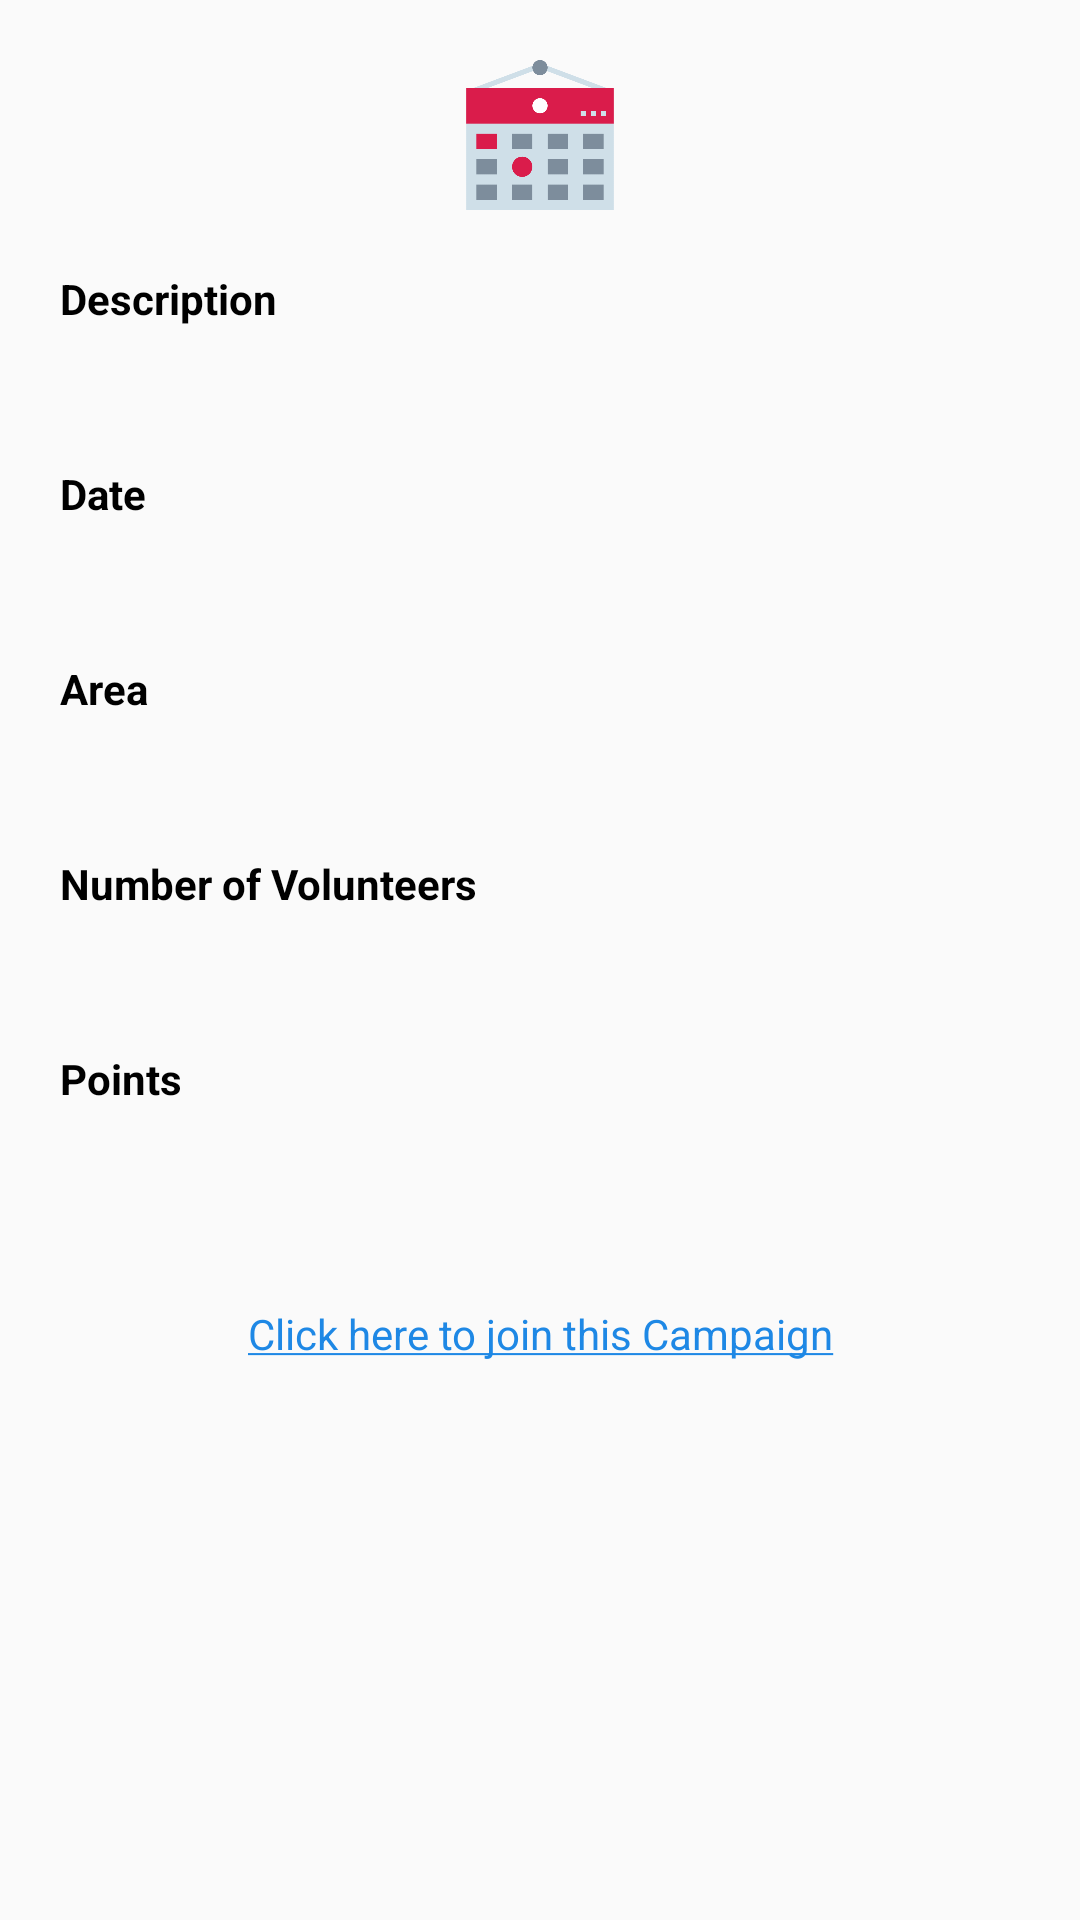

Icons on this 1080 × 1920 Android screen, each with its box as bbox(x1, y1, x2, y2):
event: bbox(466, 60, 614, 210)
